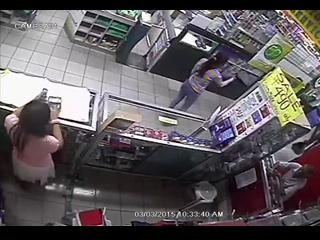Normal: (4, 100, 64, 190), (168, 52, 237, 112)
